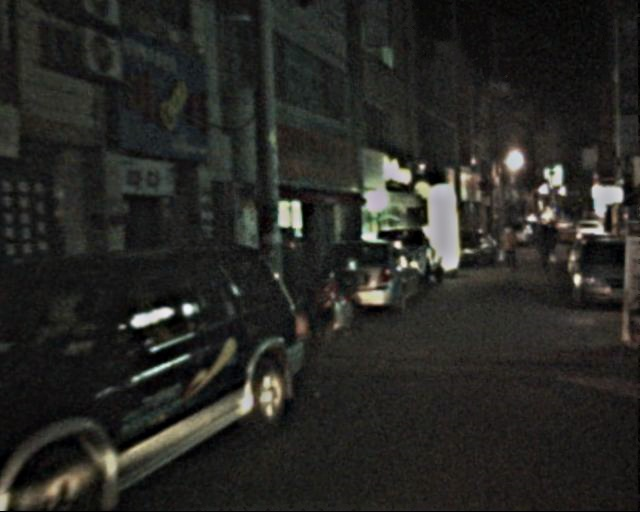person: (498, 222, 529, 274), (534, 222, 561, 276)
